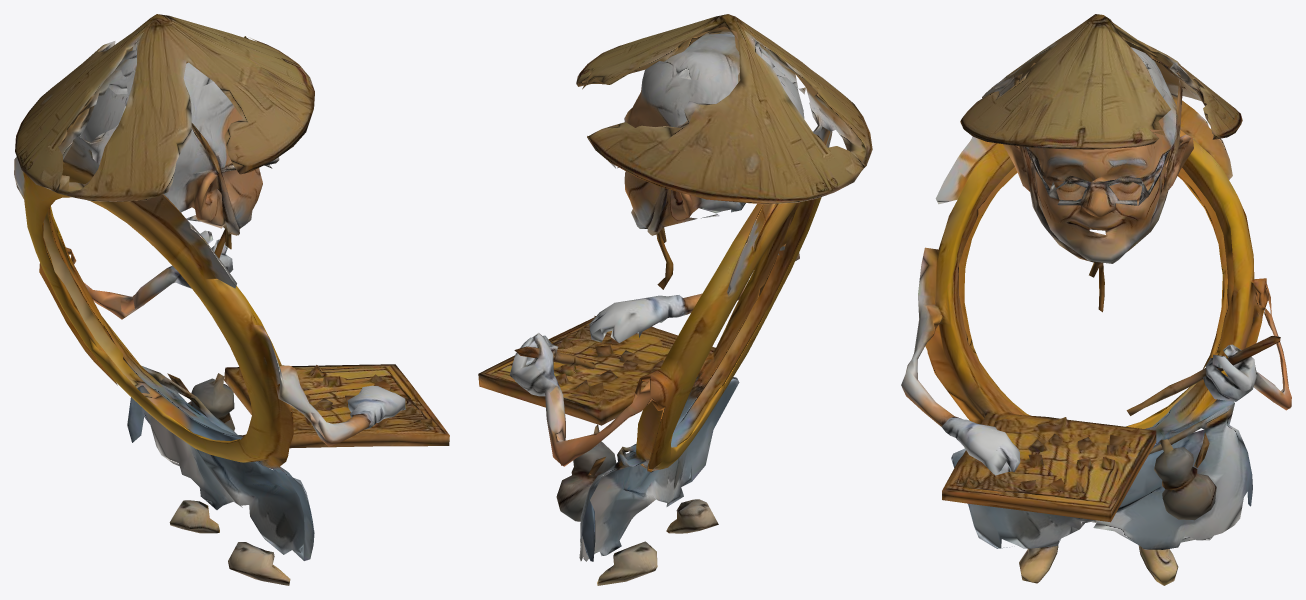
Rendered from j_boatman.glb.
The picture shows the model from 3 angles, left to right: view 1: azimuth 30°, elevation 25°; view 2: azimuth 150°, elevation 25°; view 3: azimuth 270°, elevation 25°; orthographic projection. The views are drawn at different scales.
Parts seen in each view (by area): view 1: tripo_node_e53299ee-bb71-40b7-90e9-bdb3a8ed3c09; view 2: tripo_node_e53299ee-bb71-40b7-90e9-bdb3a8ed3c09; view 3: tripo_node_e53299ee-bb71-40b7-90e9-bdb3a8ed3c09.
Part boxes in pixels (x1,y1,x2,y2): tripo_node_e53299ee-bb71-40b7-90e9-bdb3a8ed3c09: [14, 14, 449, 585]; tripo_node_e53299ee-bb71-40b7-90e9-bdb3a8ed3c09: [478, 14, 872, 585]; tripo_node_e53299ee-bb71-40b7-90e9-bdb3a8ed3c09: [901, 14, 1291, 585].
Bounding box in the file's own units: 0.682 × 1 × 0.6733.
1 material, 1 textured.
